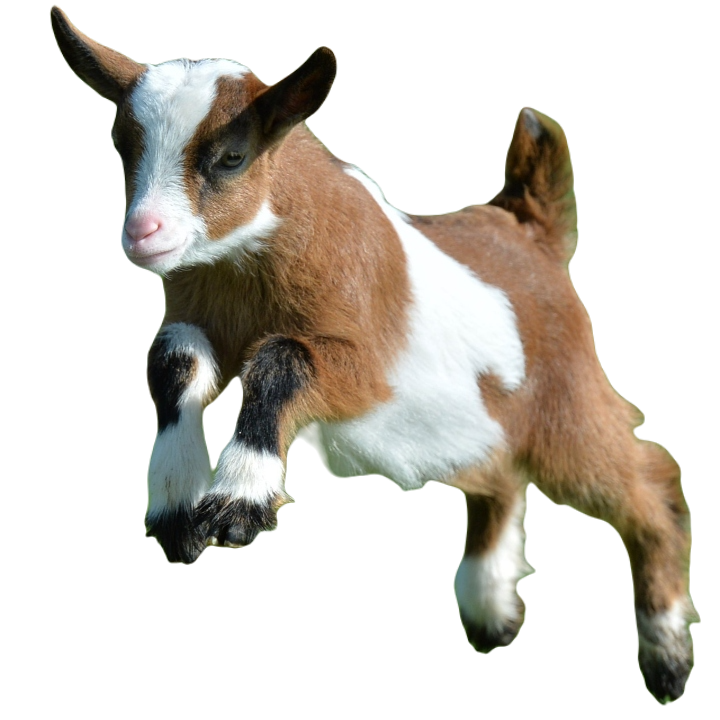Goat: (48, 5, 698, 706)
